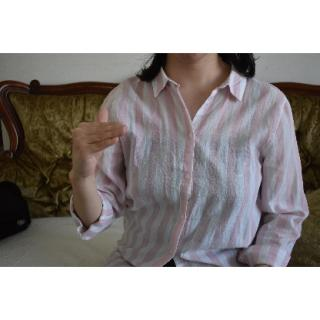KHAA: (67, 101, 132, 171)
